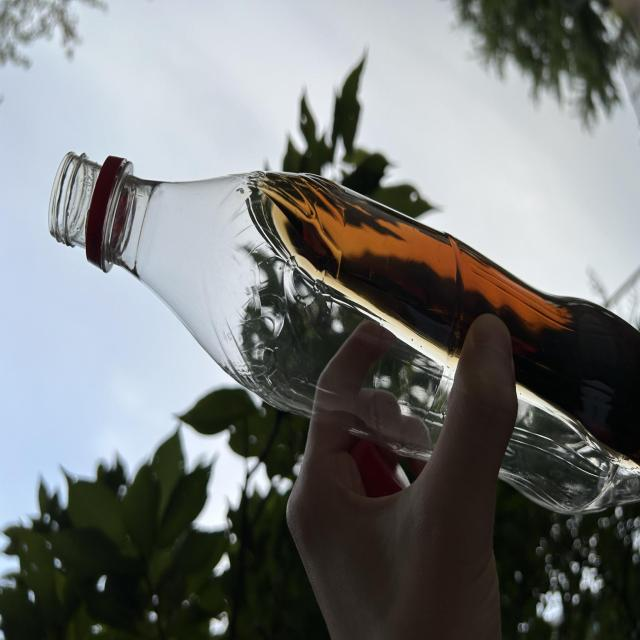low: (48, 152, 640, 512)
